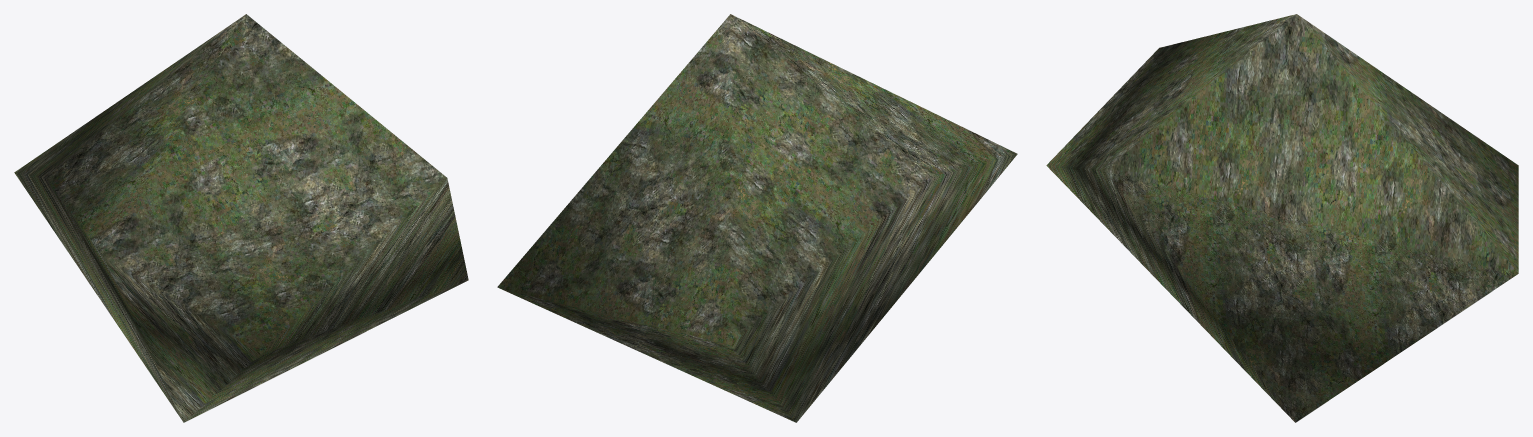
File: mtns_rock_moss_a9_l3.fbx
3 renders of one model, left to right at view 1: azimuth 30°, elevation 25°; view 2: azimuth 150°, elevation 25°; view 3: azimuth 270°, elevation 25°, orthographic. The views are drawn at different scales.
Visible parts, largest first — view 1: mesh_node; view 2: mesh_node; view 3: mesh_node.
Boxes of the visible parts, <box> form: mesh_node: <box>14,14,468,422</box>; mesh_node: <box>497,14,1017,422</box>; mesh_node: <box>1046,14,1518,422</box>.
Bounding box in the file's own units: 1.88 × 1.61 × 1.84.
